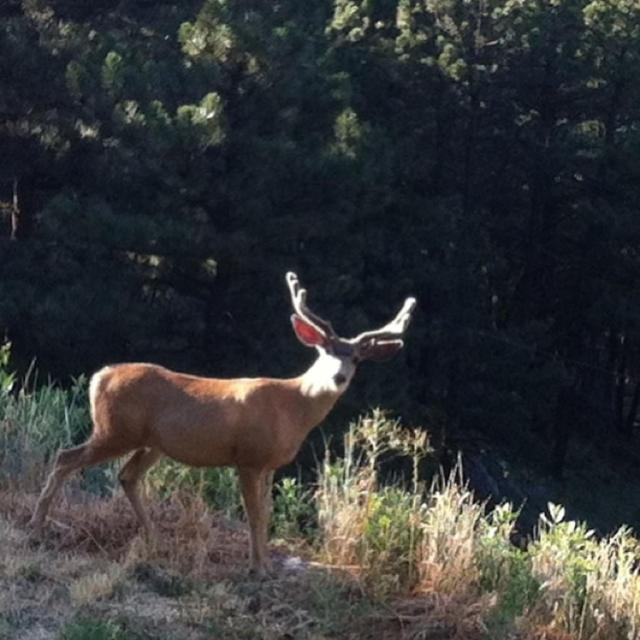Deer: (29, 268, 418, 582)
